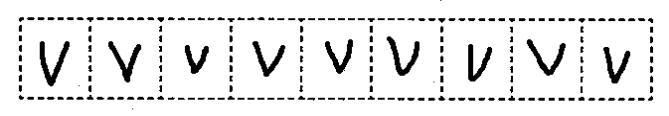V: (103, 36, 149, 87), (519, 34, 572, 76), (32, 34, 72, 88), (383, 31, 425, 80), (245, 38, 289, 82), (459, 37, 496, 85), (596, 43, 634, 88), (319, 35, 356, 79), (181, 38, 214, 78)
